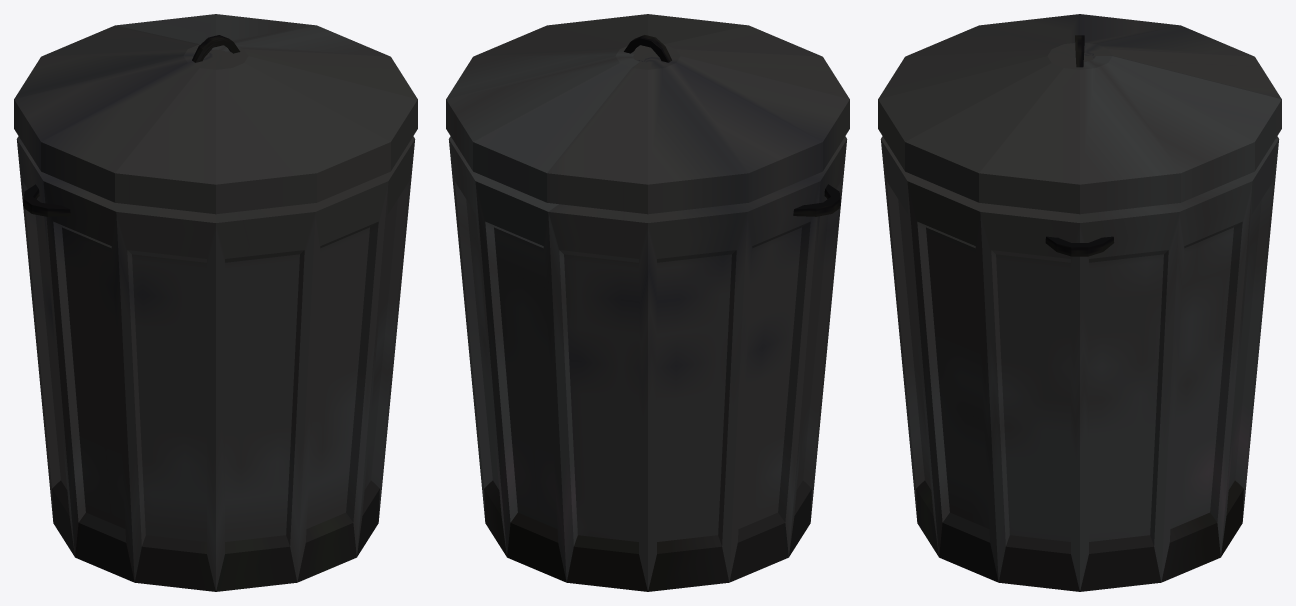
Rendered from TrashCan.fbx.
The picture shows the model from 3 angles, left to right: view 1: azimuth 30°, elevation 25°; view 2: azimuth 150°, elevation 25°; view 3: azimuth 270°, elevation 25°; orthographic projection.
Visible parts, largest first — view 1: TrashCan; view 2: TrashCan; view 3: TrashCan.
Boxes of the visible parts, bbox=[...] form: TrashCan: bbox=[14, 14, 417, 591]; TrashCan: bbox=[446, 14, 849, 591]; TrashCan: bbox=[878, 14, 1281, 591].
Bounding box in the file's own units: 62.49 × 77.03 × 58.1.
Materials: 1 (1 with a texture image).
